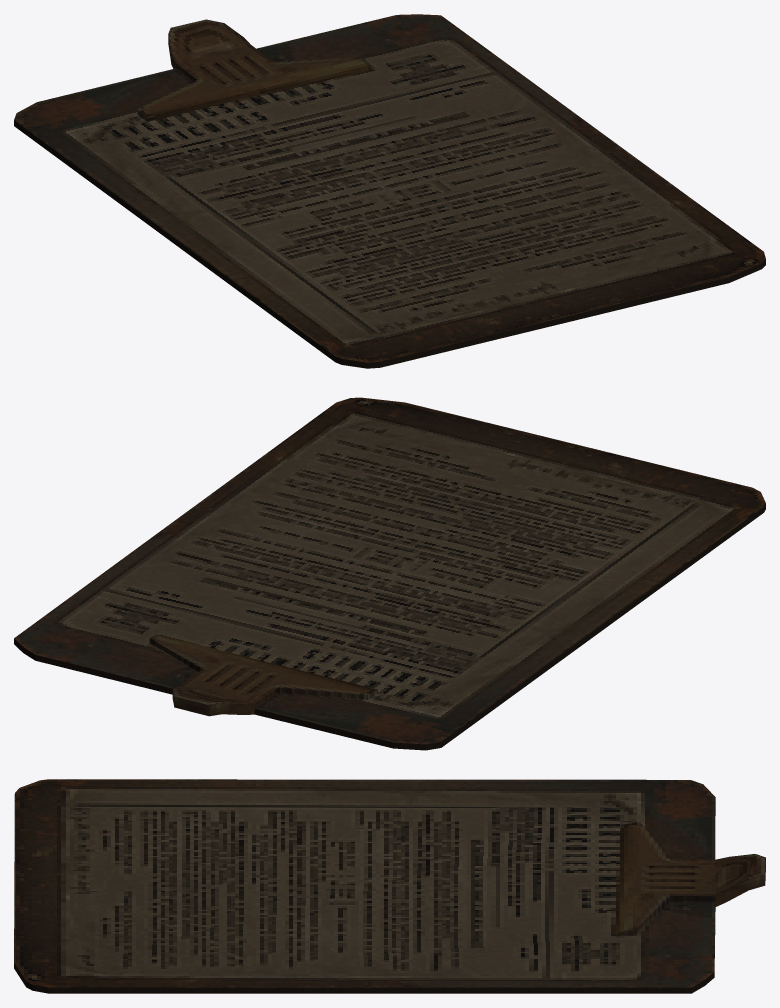
The model's file is clipboard_mx_1.glb.
3 renders of one model, top to bottom at view 1: azimuth 30°, elevation 25°; view 2: azimuth 150°, elevation 25°; view 3: azimuth 270°, elevation 25°, orthographic.
Visible parts, largest first — view 1: clipboard_mx_1; view 2: clipboard_mx_1; view 3: clipboard_mx_1.
Boxes of the visible parts, x1,y1,x2,y2 form: clipboard_mx_1: [14, 14, 765, 368]; clipboard_mx_1: [14, 397, 765, 750]; clipboard_mx_1: [14, 779, 765, 993].
Size of the model in its own units: 0.2244 by 0.0115 by 0.3423.
1 material, 1 textured.
